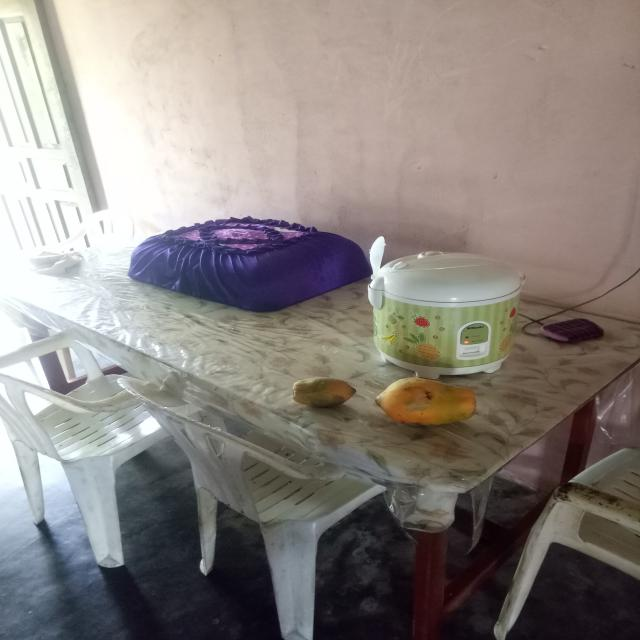Pepaya rippen: (374, 374, 486, 432), (278, 373, 356, 410)
